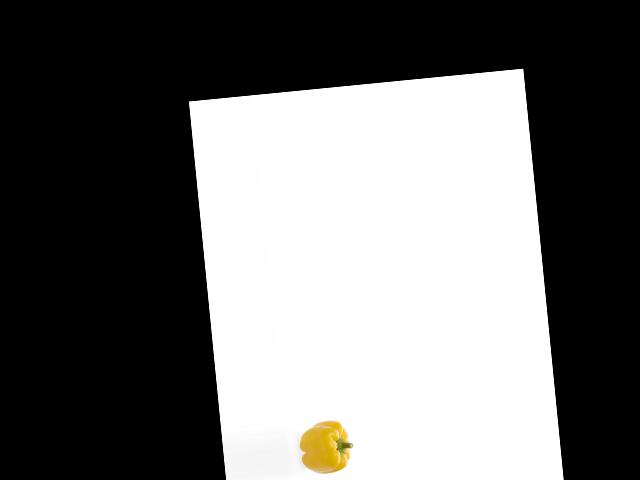bell_pepper: (296, 414, 357, 475)
